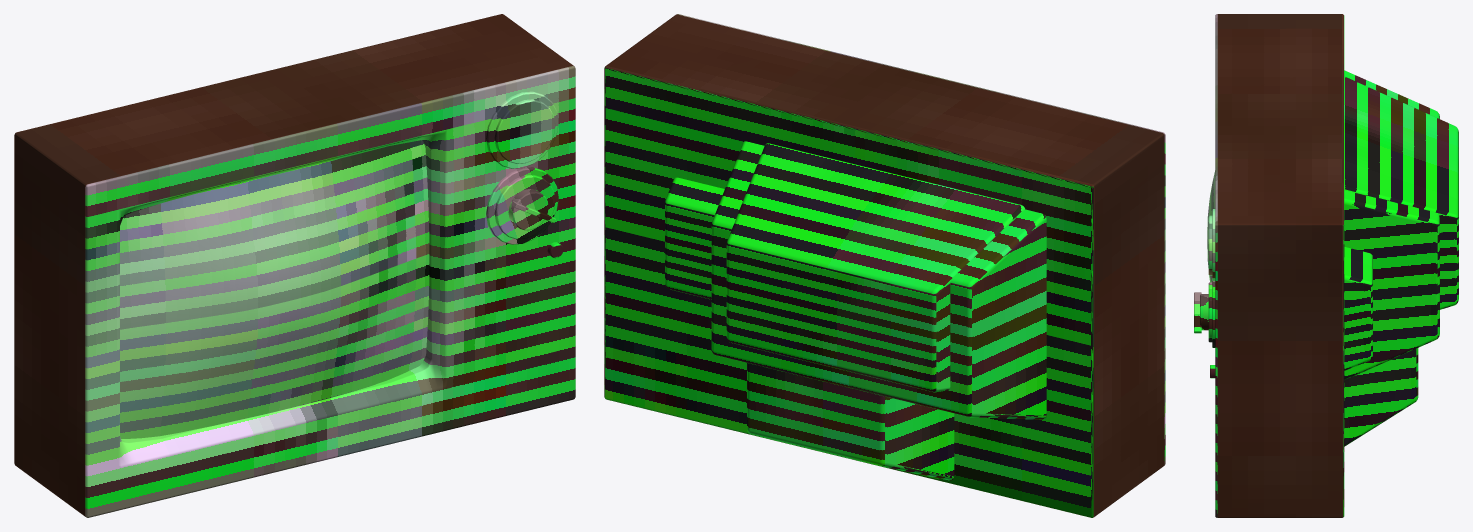
3 views of the same model, side by side, from view 1: azimuth 30°, elevation 25°; view 2: azimuth 150°, elevation 25°; view 3: azimuth 270°, elevation 25° (orthographic). The views are drawn at different scales.
Parts seen in each view (by area): view 1: polySurface5, pasted__polySurface2, polySurface3, polySurface11, polySurface7, polySurface9; view 2: polySurface3, pCube6, pCube2, pCube3, pCube7, polySurface5; view 3: polySurface3, pCube6, pCube2, pCube3, pCube7, polySurface5, polySurface11, pasted__polySurface2.
Part boxes in pixels (x1,y1,x2,y2): polySurface5: [85, 66, 575, 517]; pasted__polySurface2: [120, 140, 429, 438]; polySurface3: [14, 14, 573, 516]; polySurface11: [486, 167, 558, 244]; polySurface7: [494, 99, 555, 163]; polySurface9: [486, 91, 558, 168]; polySurface3: [604, 14, 1164, 517]; pCube6: [726, 143, 1025, 392]; pCube2: [711, 141, 1046, 419]; pCube3: [747, 363, 954, 480]; pCube7: [665, 177, 724, 299]; polySurface5: [677, 14, 1165, 464]; polySurface3: [1217, 14, 1344, 517]; pCube6: [1344, 76, 1458, 309]; pCube2: [1344, 70, 1439, 380]; pCube3: [1344, 348, 1418, 446]; pCube7: [1344, 247, 1372, 370]; polySurface5: [1215, 14, 1217, 517]; polySurface11: [1194, 281, 1215, 347]; pasted__polySurface2: [1207, 170, 1215, 282].
Bounding box in the file's own units: 0.117 × 0.0761 × 0.062.
Materials: 3 (3 with a texture image).
